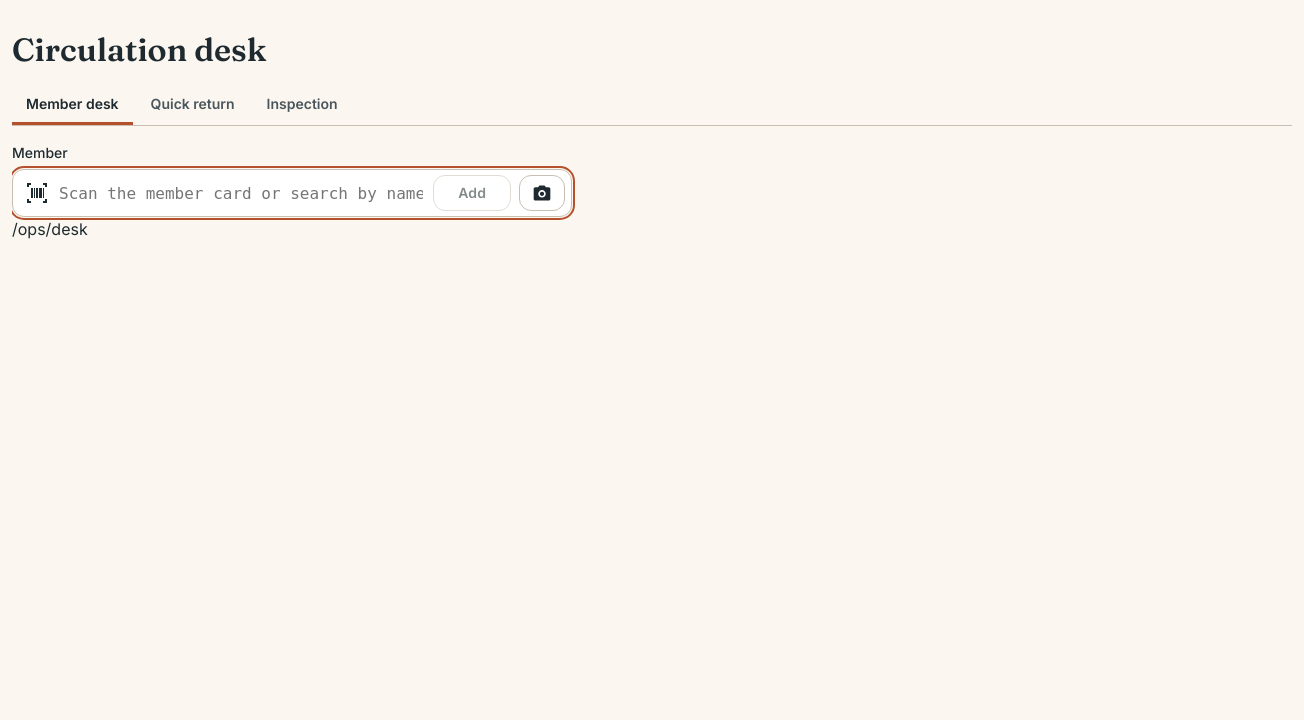
member desk › keeps the member and the scanned books when the server refuses, and sends focus back to the scan box
Type "MEM-0001" into the field labelled "Member".
click(241, 194); type("MEM-0001")  # box [57, 170, 425, 216]
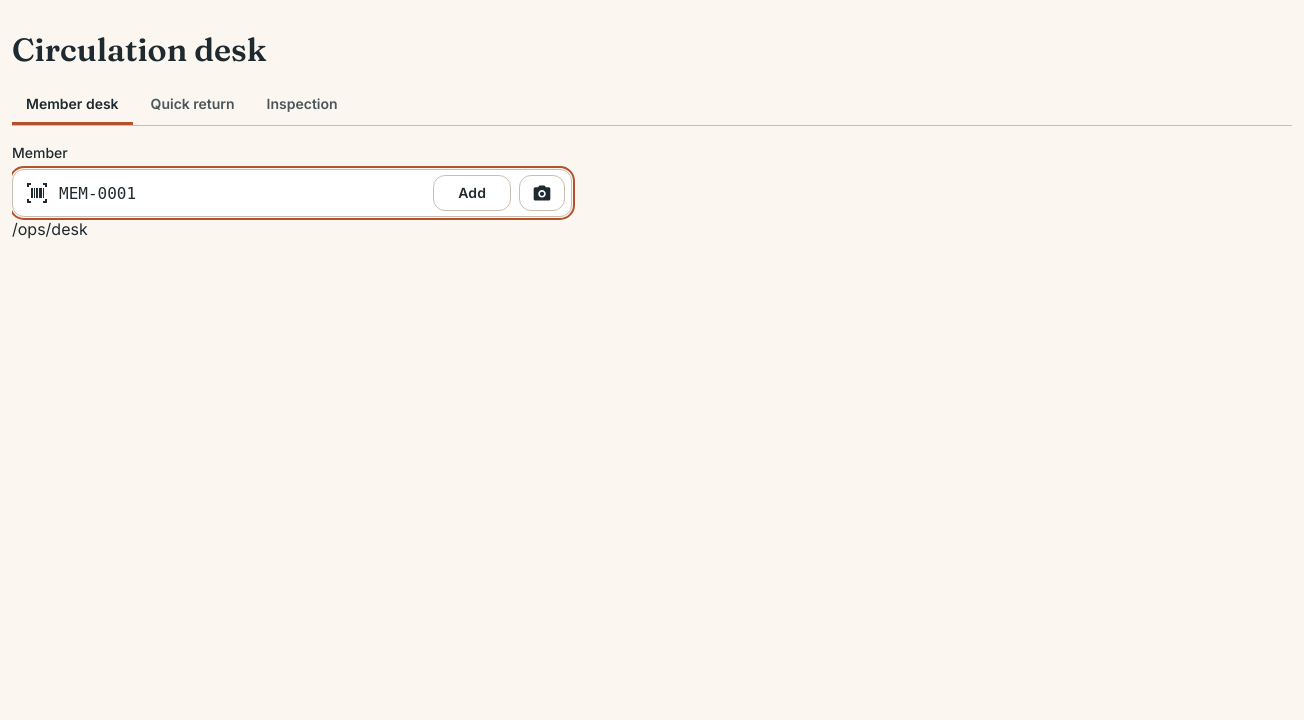
Press Enter in the field labelled "Member", box [57, 170, 425, 216]
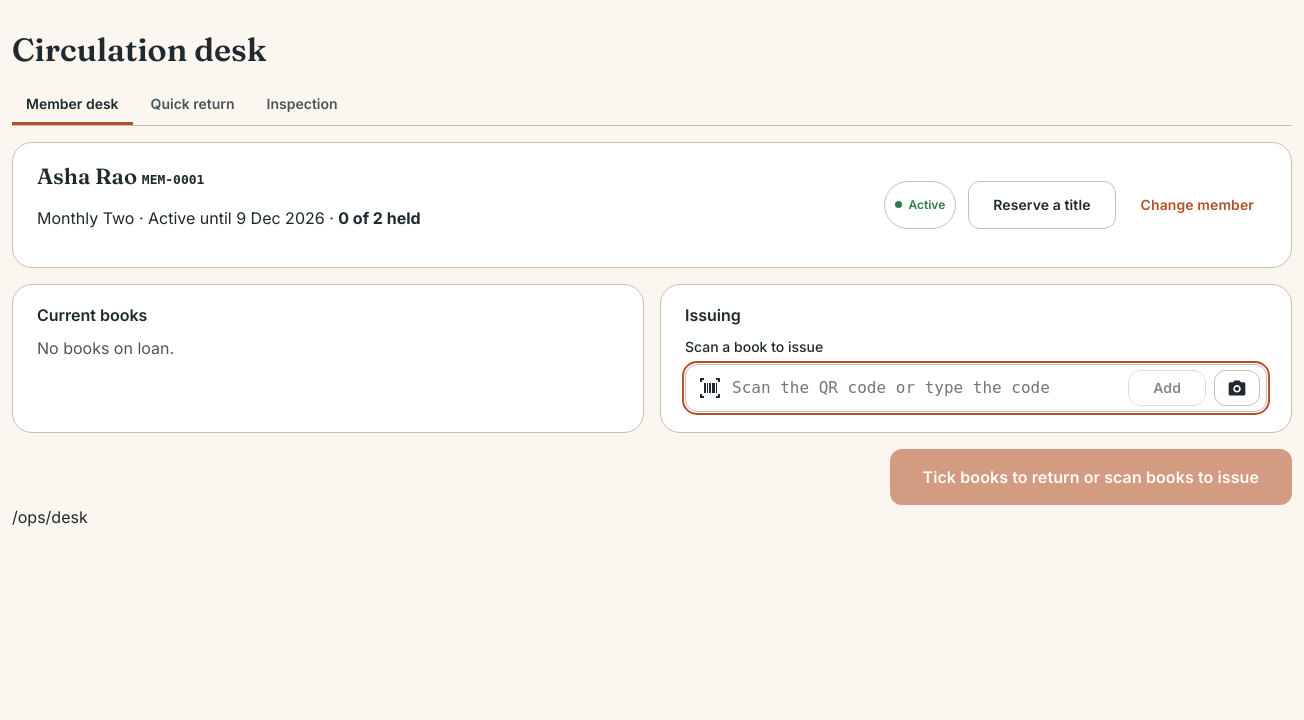
Type "C-1" into the field labelled "Scan a book to issue".
click(925, 388); type("C-1")  # box [730, 365, 1120, 411]
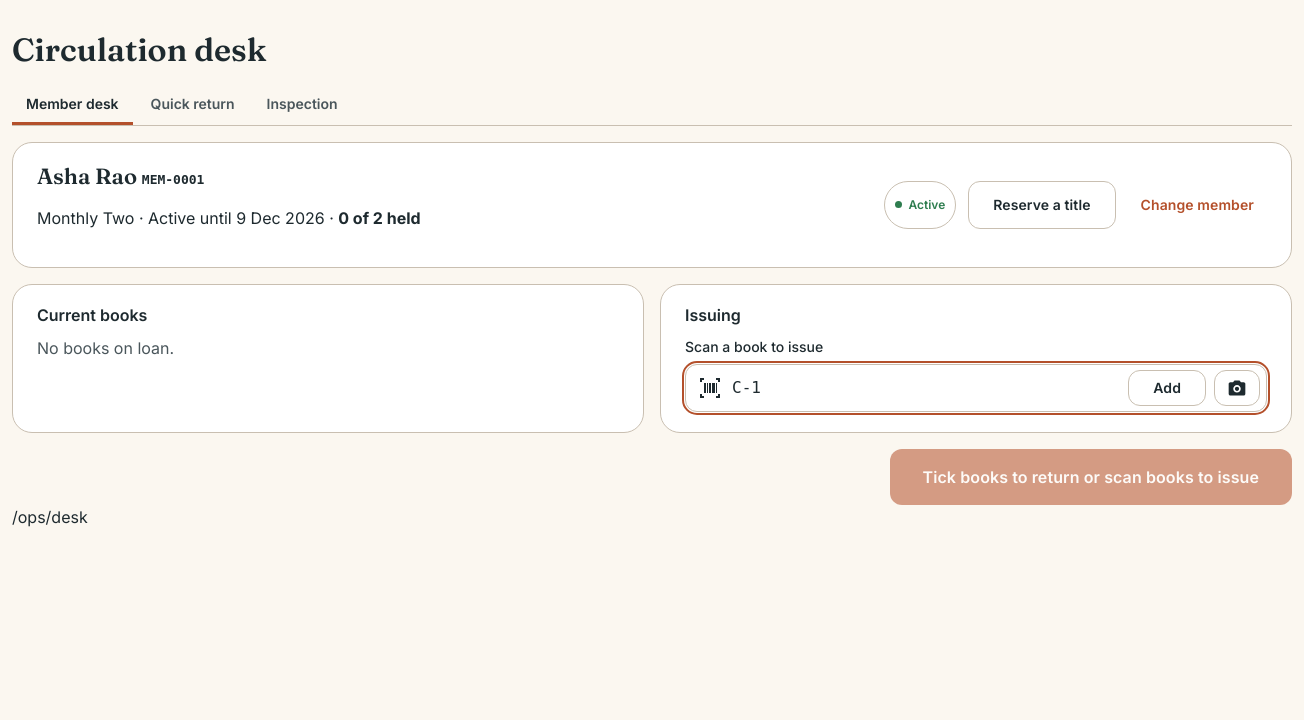
Press Enter in the field labelled "Scan a book to issue", box [730, 365, 1120, 411]
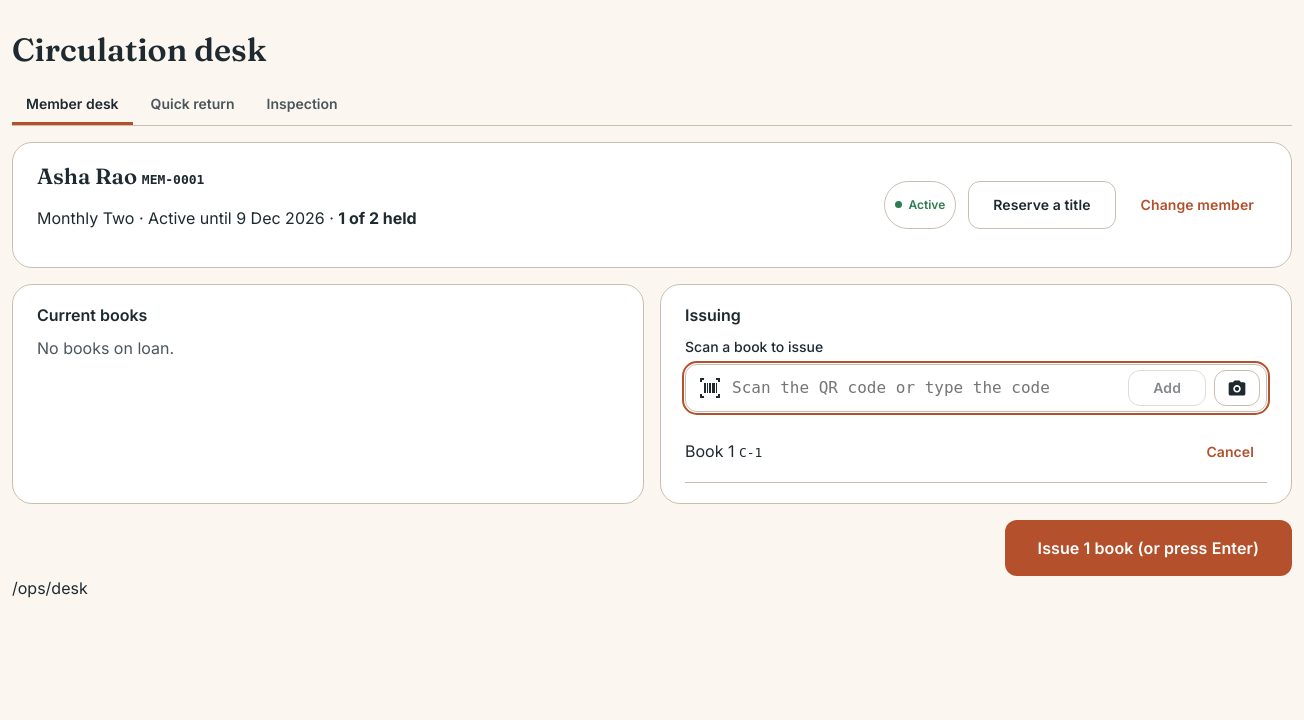
Click the button "Issue 1 book (or press Enter)".
click(1148, 548)  # box [1005, 520, 1292, 576]
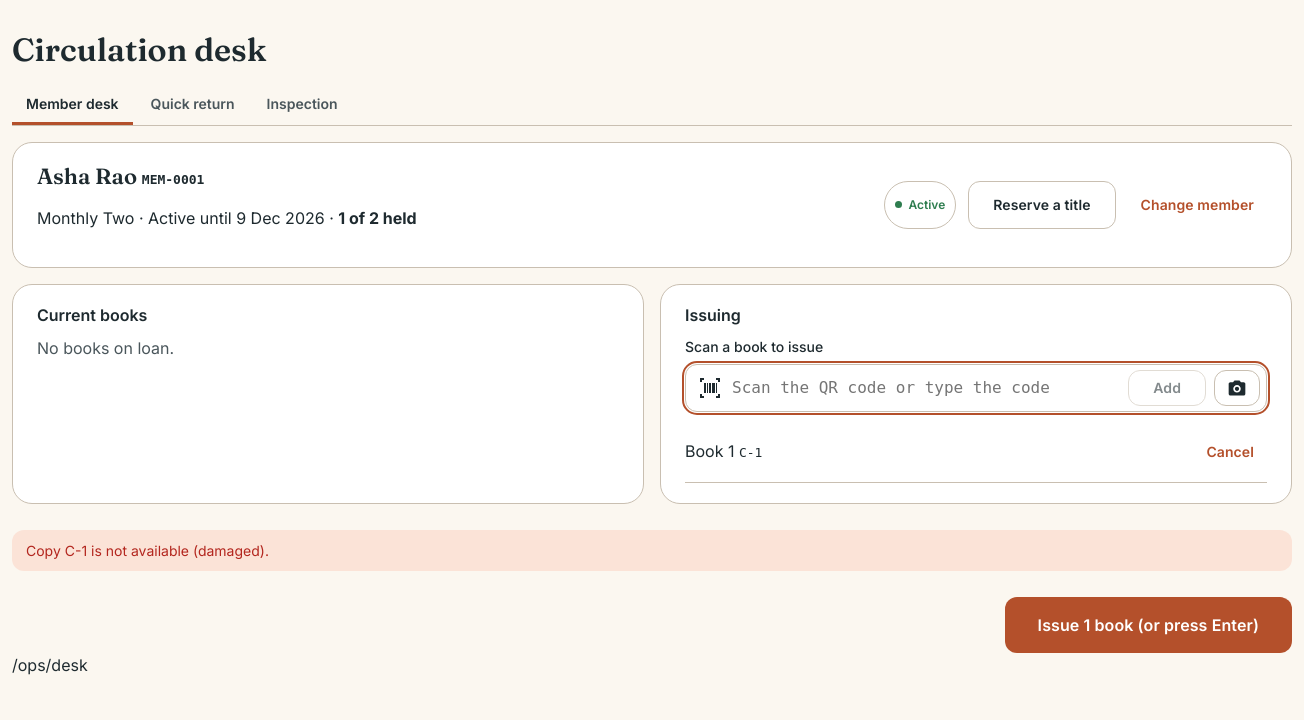
Result: the text "Book 1" is shown at [685, 441, 734, 461]
Result: the message reads "Copy C-1 is not available (damaged)." at [26, 542, 269, 559]
